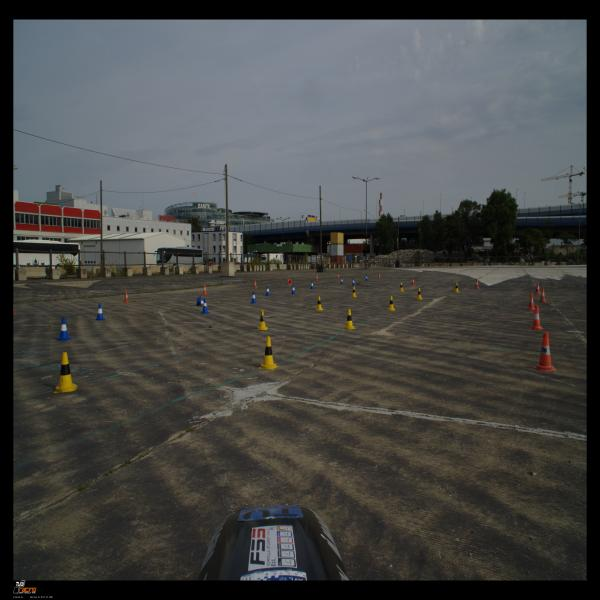blue_cone: (56, 318, 72, 340), (96, 304, 106, 320), (201, 298, 209, 314), (196, 296, 204, 306), (251, 292, 257, 304), (265, 286, 271, 296), (291, 284, 296, 294), (310, 281, 315, 289), (340, 277, 344, 285), (352, 278, 355, 286), (365, 274, 368, 281)
orange_cone: (533, 332, 558, 371), (529, 306, 544, 330), (527, 293, 535, 310), (539, 287, 547, 302), (123, 290, 130, 303), (535, 282, 541, 294), (202, 284, 207, 295), (475, 279, 480, 289), (410, 277, 416, 285), (254, 280, 258, 289), (288, 279, 292, 285), (378, 272, 381, 279), (316, 274, 318, 281), (337, 272, 339, 278)
yellow_cone: (53, 352, 78, 393), (259, 336, 278, 370), (343, 309, 356, 329), (257, 310, 268, 330), (387, 296, 396, 311), (315, 296, 324, 310), (416, 288, 423, 300), (453, 282, 460, 293), (351, 286, 357, 298), (398, 282, 404, 292)
